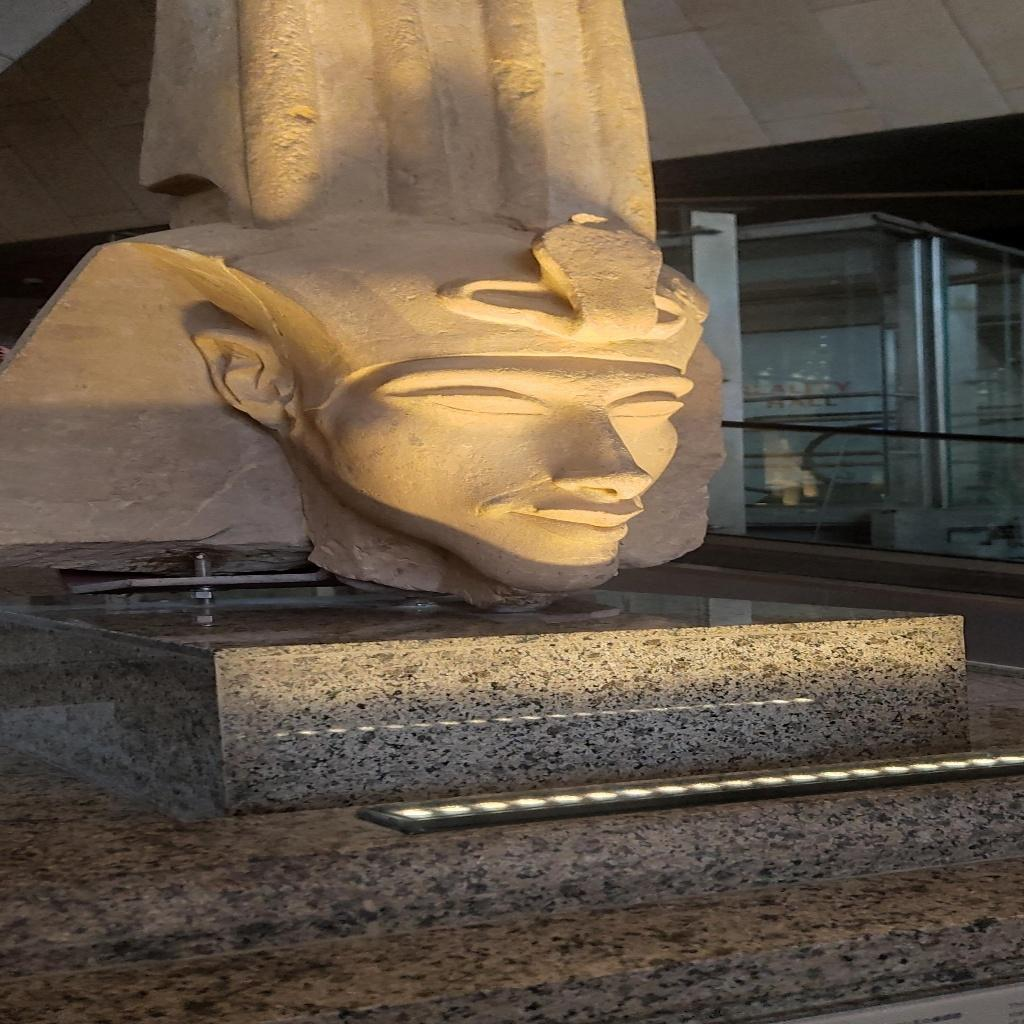Statue Head of Akhenaten: (99, 212, 739, 612)
